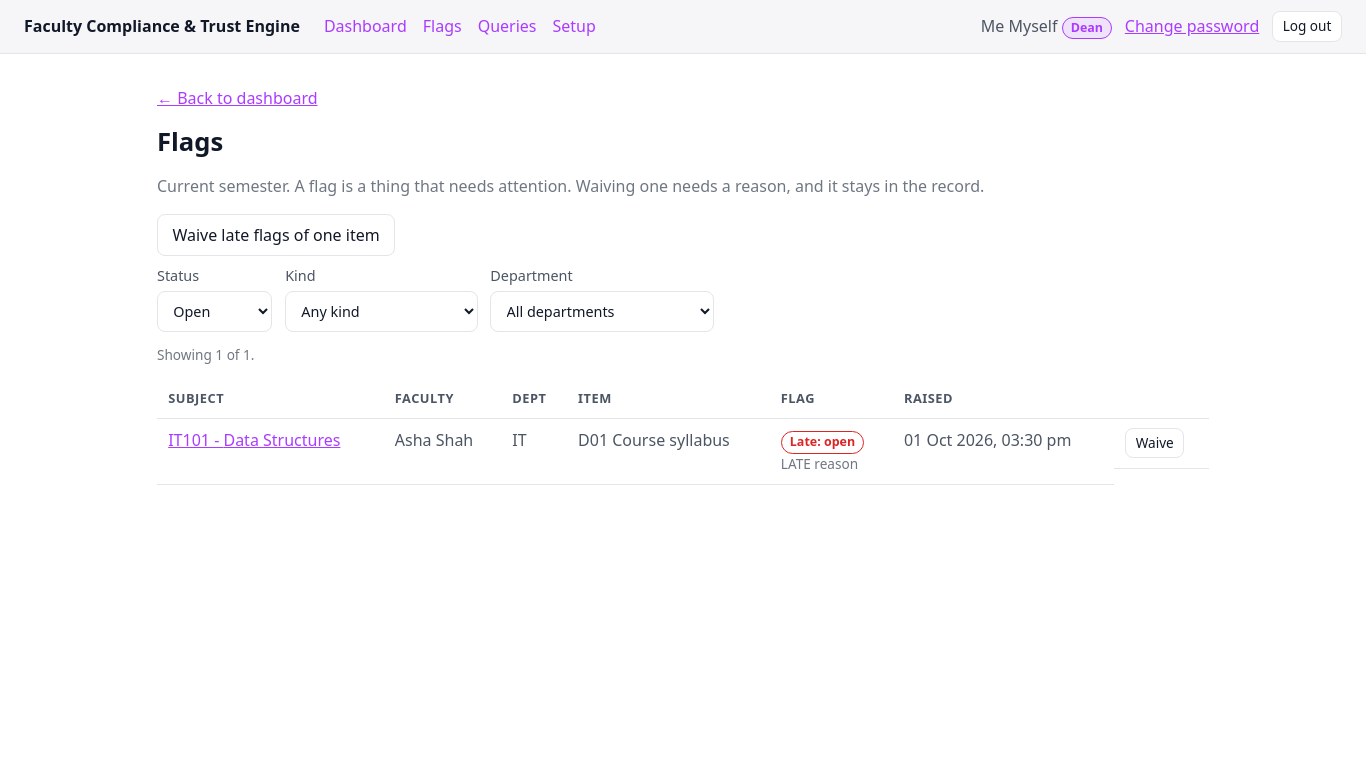
Scenario: flags page › only the Dean can waive every late flag of one item
This screenshot has width=1366, height=768.
Click the button "Waive late flags of one item" at coordinates (276, 235), box left=157, top=214, right=395, bottom=256
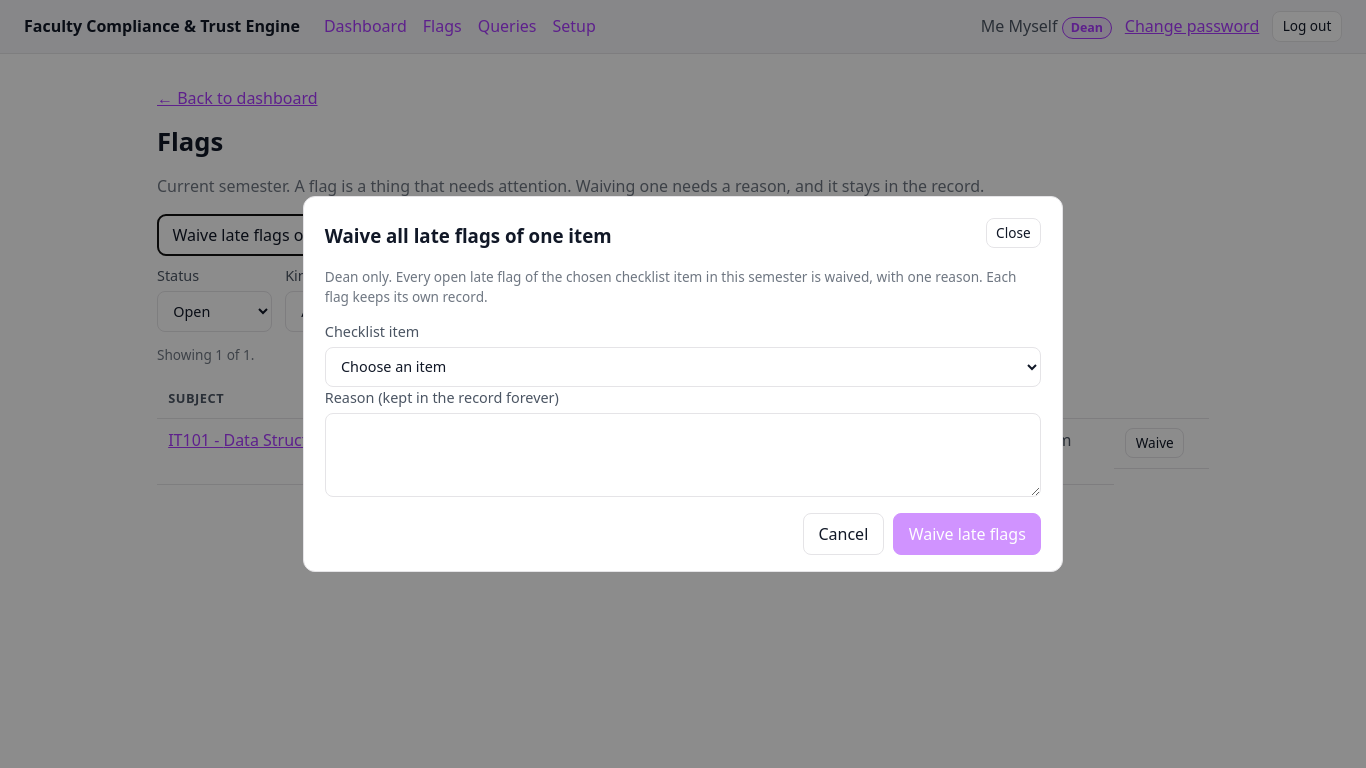
Now the button "Waive late flags" is disabled, box left=893, top=513, right=1041, bottom=555
Select "D01 Course syllabus" in the dropdown labelled "Checklist item" at coordinates (683, 367), box left=325, top=347, right=1041, bottom=387
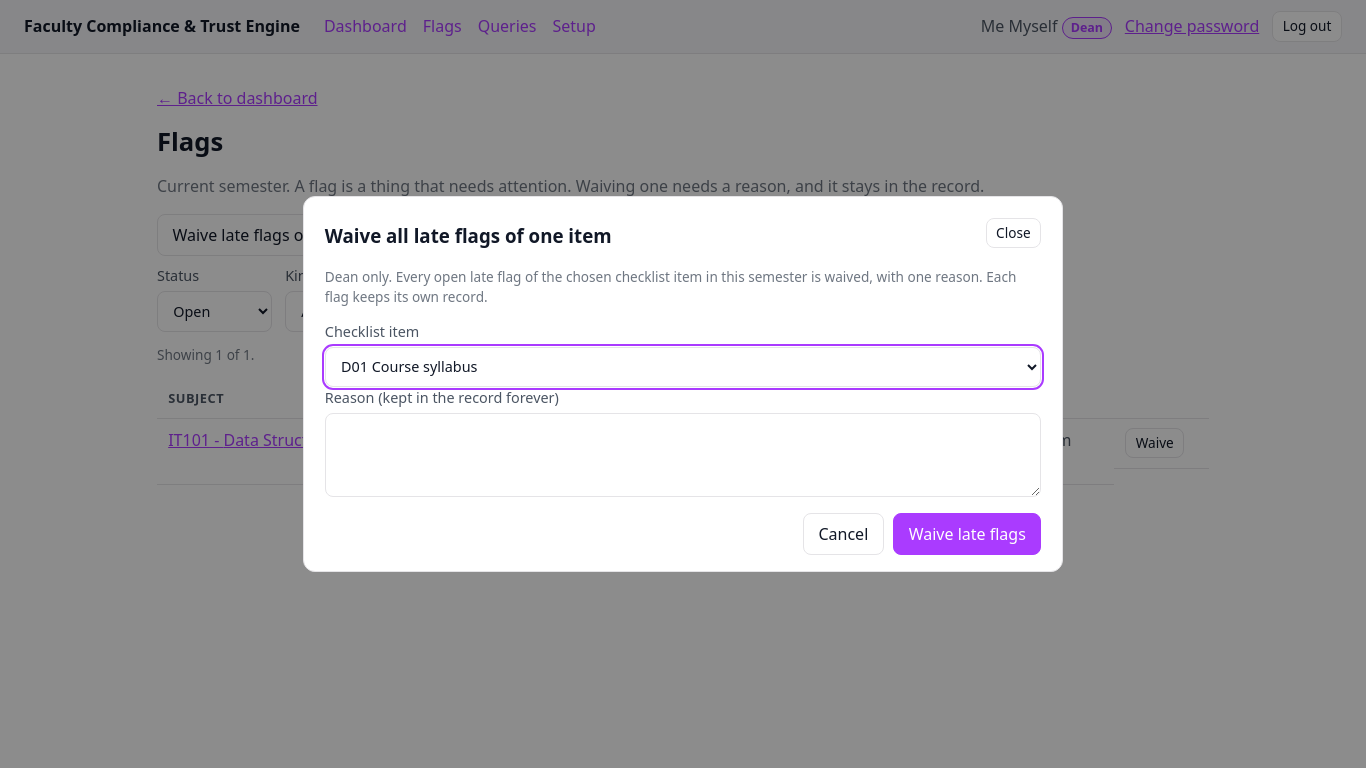
Type "Server was down on the deadline" into the text box labelled "Reason (kept in the record forever)" at coordinates (683, 455), box left=325, top=413, right=1041, bottom=497
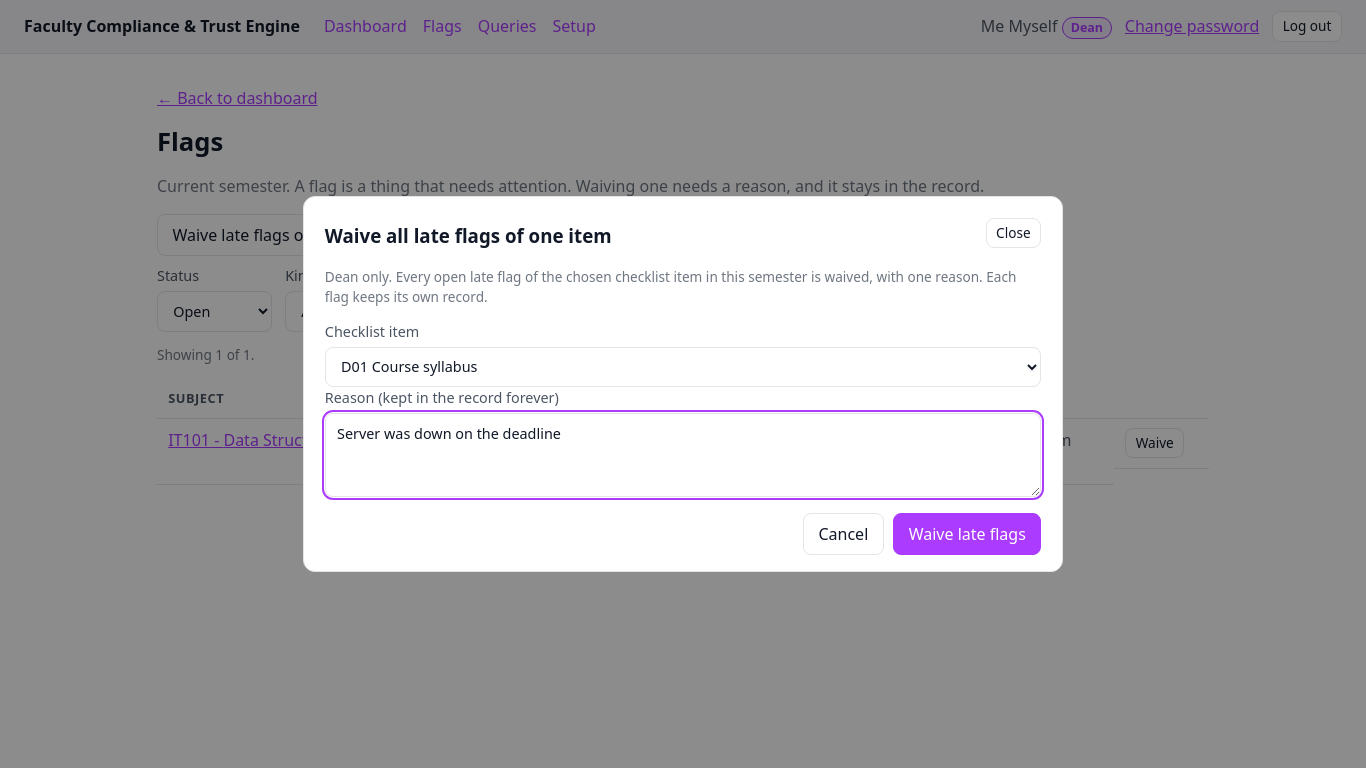
Click the button "Waive late flags" at coordinates (967, 534), box left=893, top=513, right=1041, bottom=555
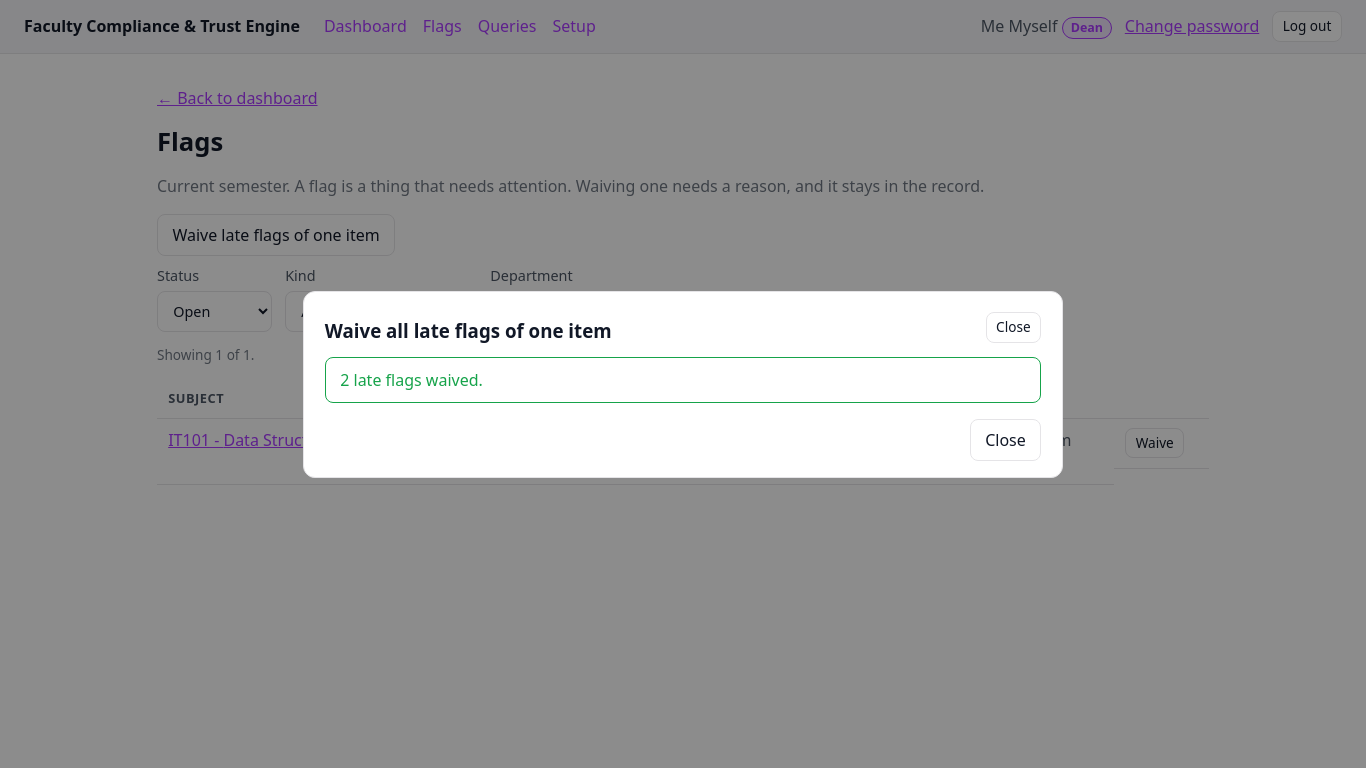
Now the text "2 late flags waived." is shown, box left=325, top=357, right=1041, bottom=402
